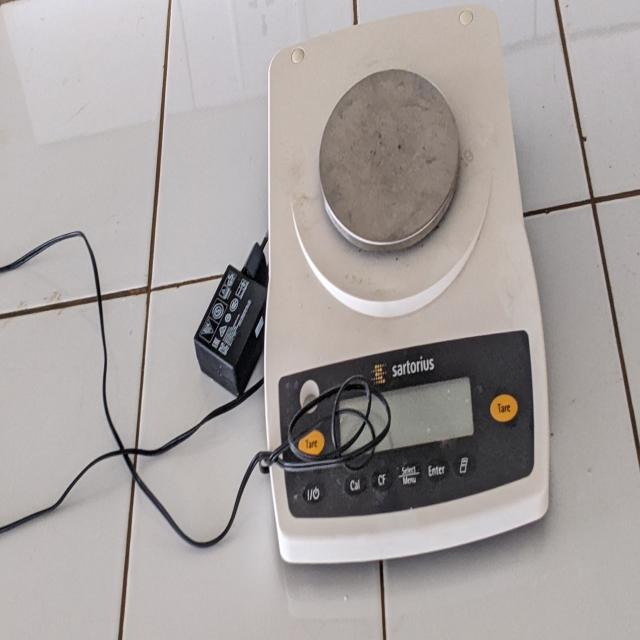Electronic Balance: (264, 34, 558, 579)
